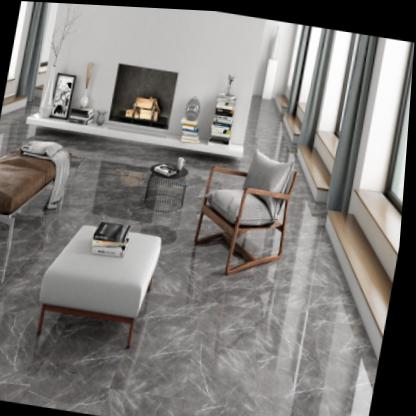Ceramic floor: (0, 193, 382, 416), (0, 122, 246, 330), (246, 90, 316, 193), (4, 97, 43, 119)
Chair: (197, 145, 300, 272)
Curtains: (329, 30, 378, 209), (300, 24, 334, 145), (287, 21, 311, 112)
